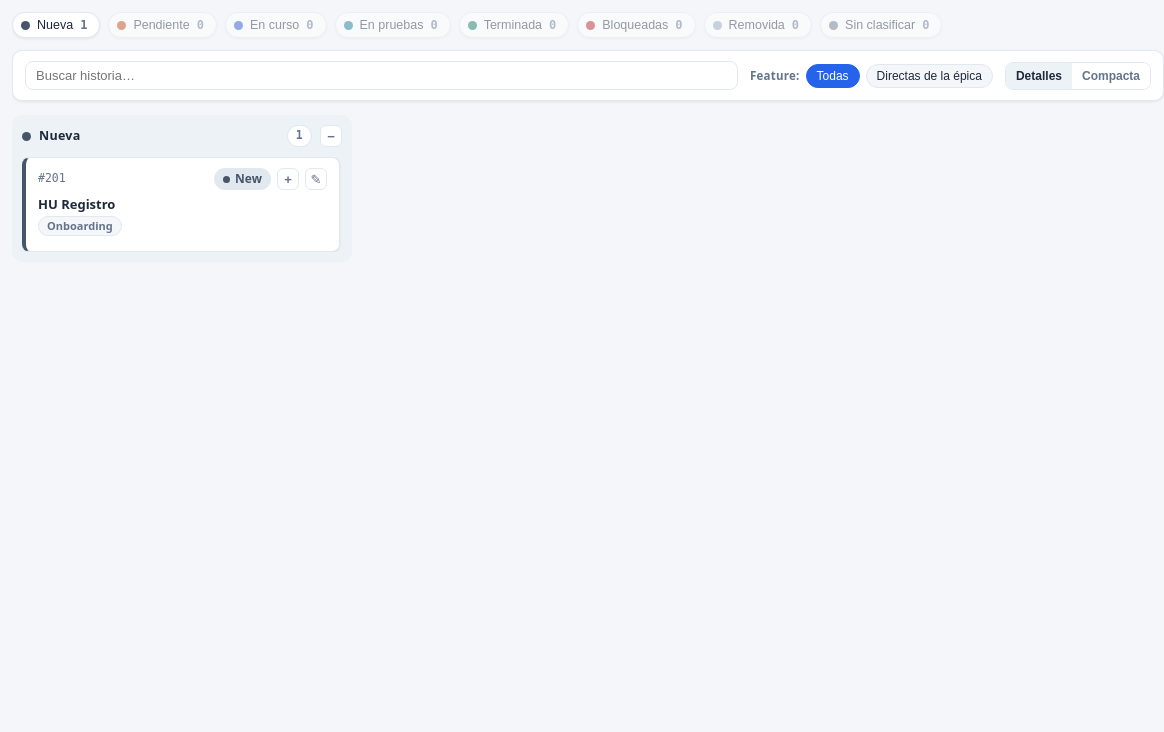
Test: Edición QA de historias › abre el formulario con los tags actuales precargados
What coordinates should you click on to do the following:
click the button named "editar historia #201 (QA)"
I would click on:
 (316, 179)
Its box is [305,168,327,190].
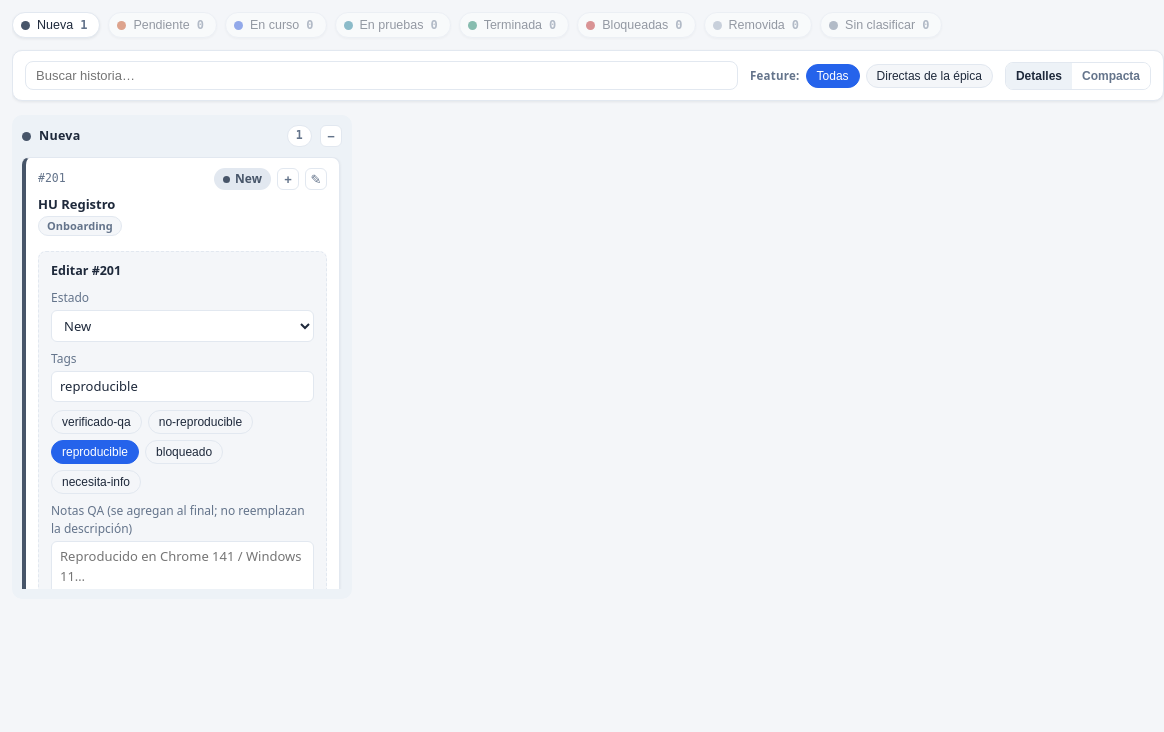
Check: the form named "Editar HU Registro" is shown, box [38,251,327,589]
Check: the field labelled "Tags" holds "reproducible", box [51,371,314,402]
